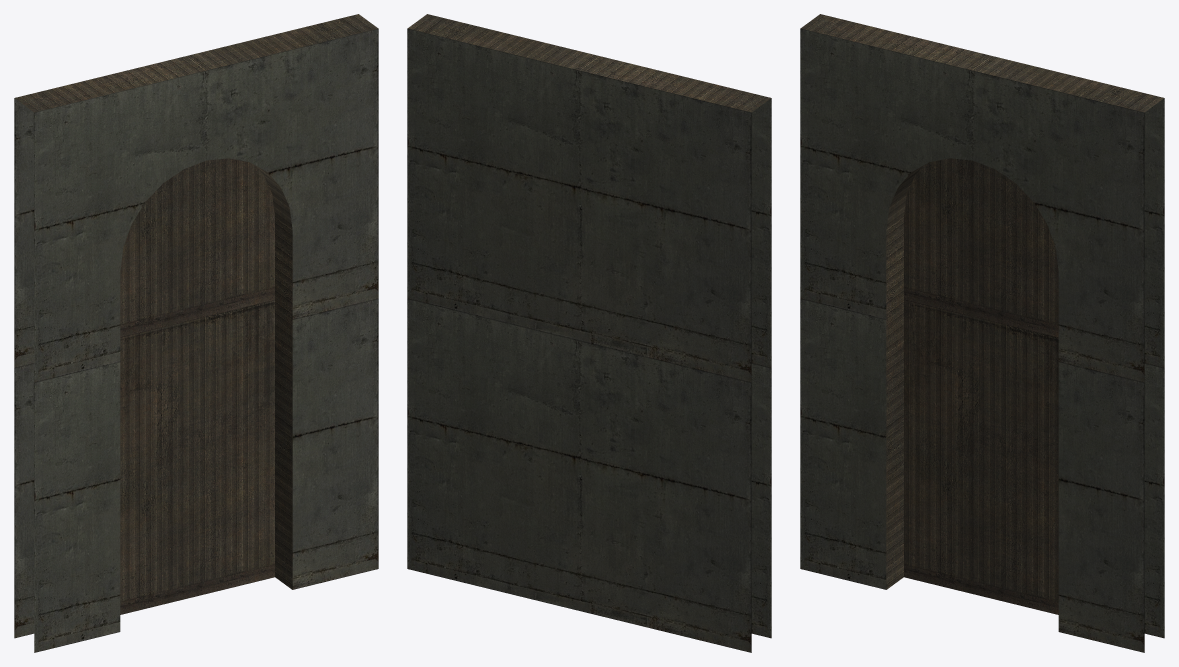
File: wall_rg_15_double.obj
The picture shows the model from 3 angles, left to right: view 1: azimuth 30°, elevation 25°; view 2: azimuth 150°, elevation 25°; view 3: azimuth 330°, elevation 25°; orthographic projection.
Visible parts, largest first — view 1: wall_rg_15_double; view 2: wall_rg_15_double; view 3: wall_rg_15_double.
Part boxes in pixels (box(x1,y1,x2,y2)): wall_rg_15_double: box(14, 14, 378, 652); wall_rg_15_double: box(407, 14, 771, 652); wall_rg_15_double: box(800, 14, 1164, 652).
Size of the model in its own units: 4 by 6 by 0.4.
